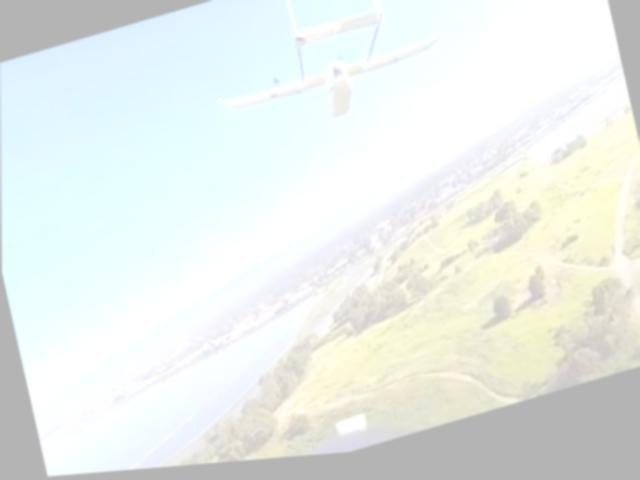iha: (184, 0, 455, 160)
